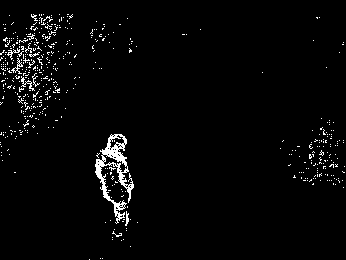person: (90, 128, 141, 243)
